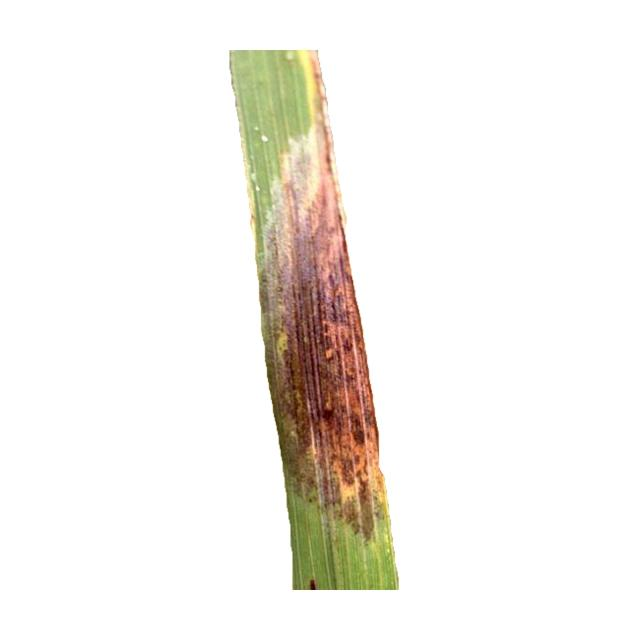Leaf scald: (187, 33, 430, 603)
